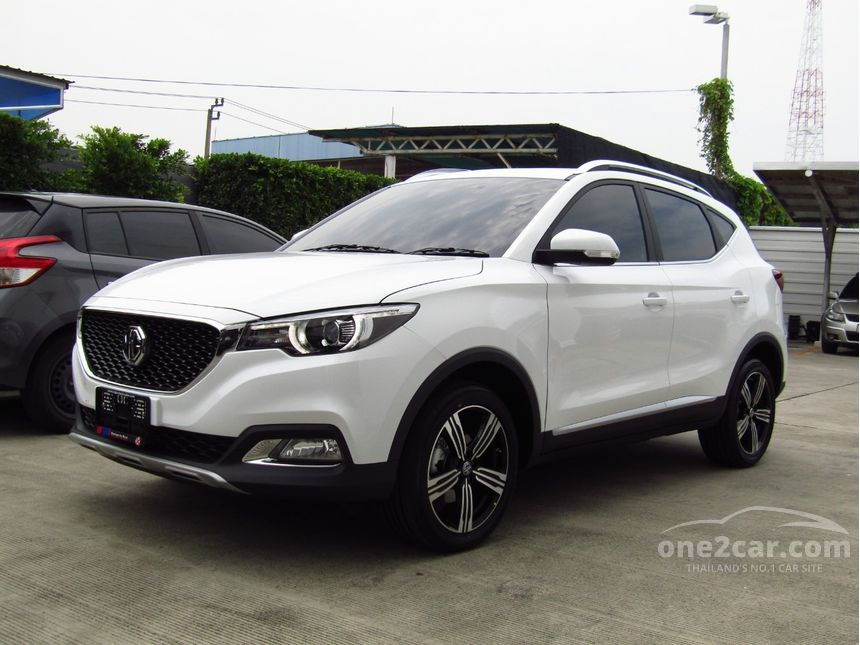pickup: (72, 159, 792, 551)
